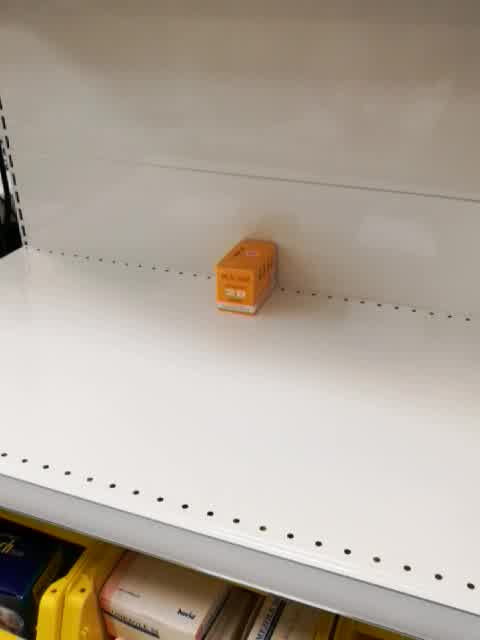jasminetea: (215, 237, 278, 316)
